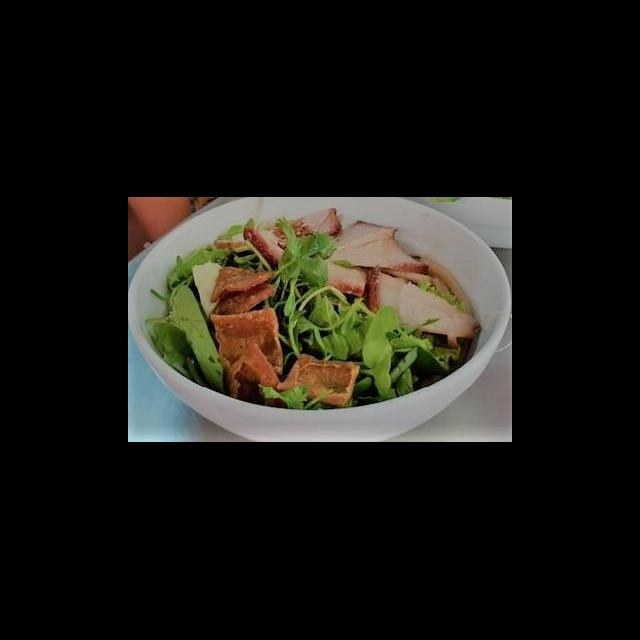banh da: (354, 260, 433, 336), (277, 230, 367, 288), (361, 318, 433, 378)
mi: (165, 322, 261, 386)
mi quang: (138, 222, 508, 442)
thit heo: (270, 342, 398, 434), (158, 298, 275, 378), (209, 362, 326, 422)
